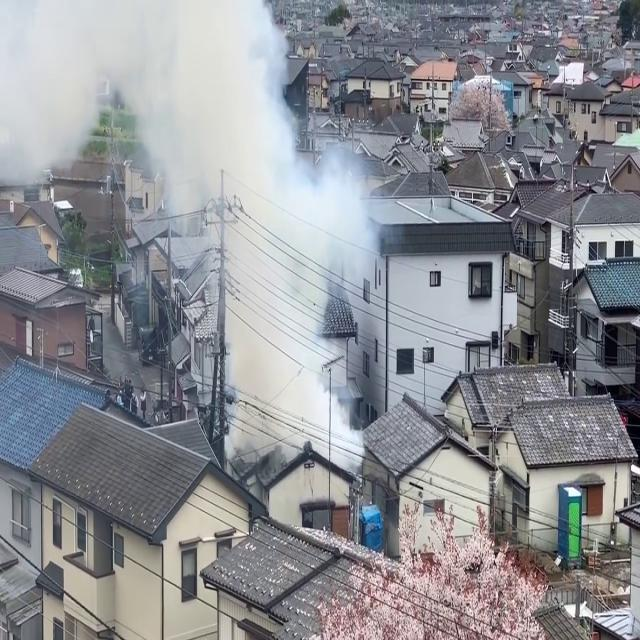Smoke: (126, 1, 385, 476)
